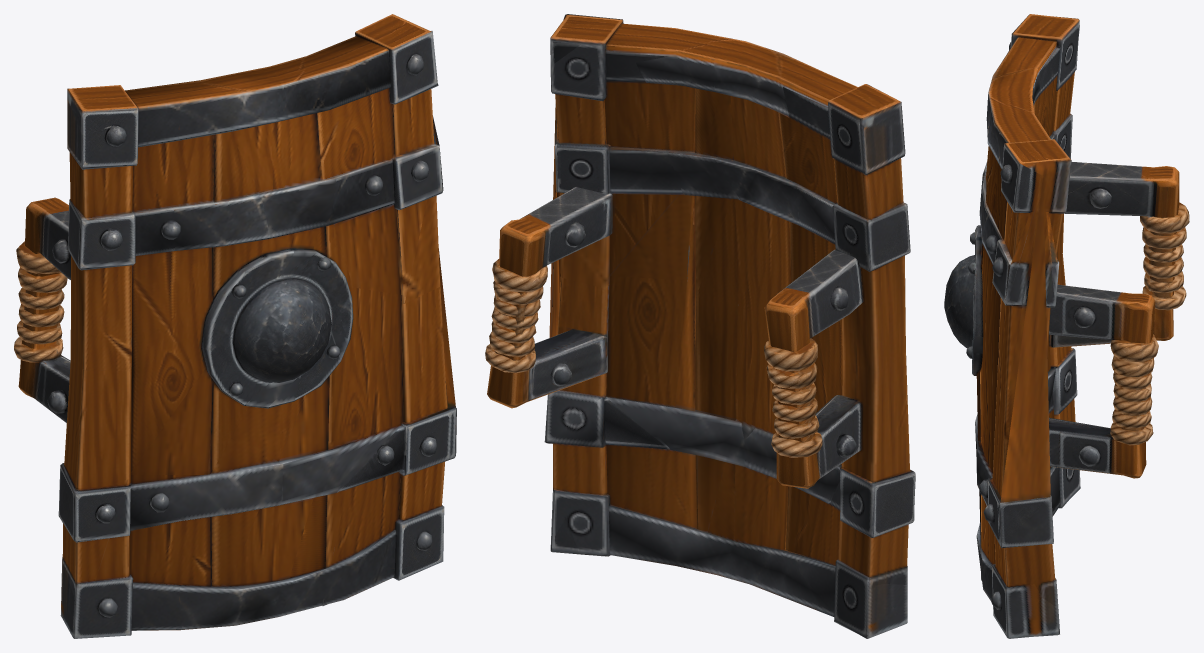
The model's file is boardingShield.glb.
The picture shows the model from 3 angles, left to right: view 1: azimuth 30°, elevation 25°; view 2: azimuth 150°, elevation 25°; view 3: azimuth 270°, elevation 25°; orthographic projection. The views are drawn at different scales.
Bounding box in the file's own units: 0.7422 × 1 × 0.4697.
1 material, 1 textured.
